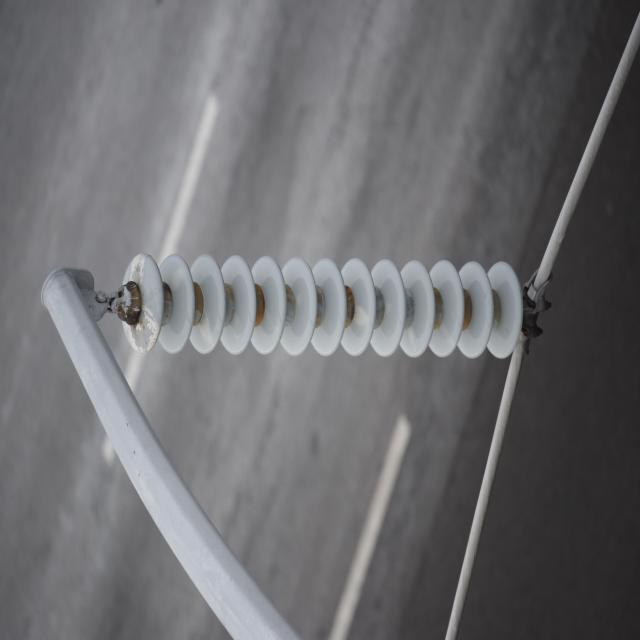insulator: (122, 251, 524, 362)
